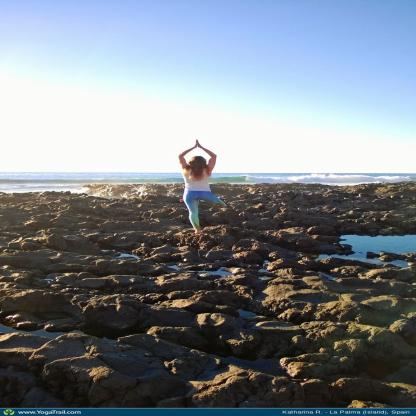tree: (159, 133, 239, 235)
